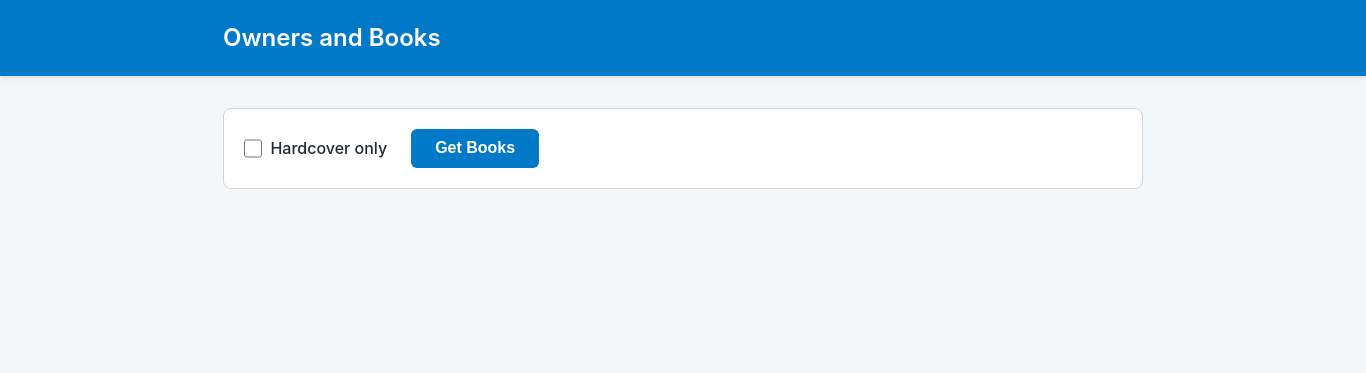
Scenario: App › requests and displays only hardcover books when the filter is toggled
Click the button "Get Books". click: coordinates (475, 148)
box: left=411, top=129, right=539, bottom=168
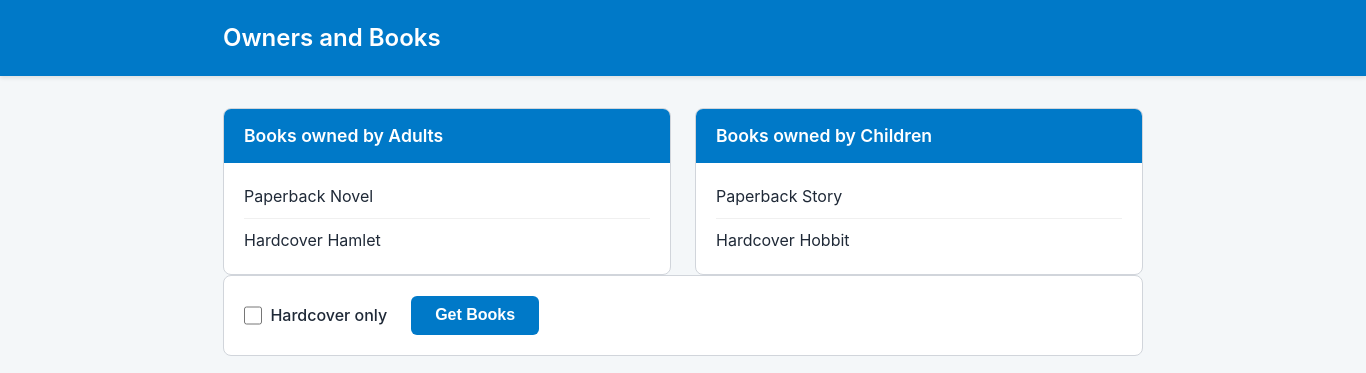
Result: the list item "Paperback Novel" is shown at left=244, top=175, right=650, bottom=219
Result: the list item "Paperback Story" is shown at left=716, top=175, right=1122, bottom=219
Click the checkbox labelled "Hardcover only". click: coordinates (253, 315)
box: left=244, top=306, right=262, bottom=324
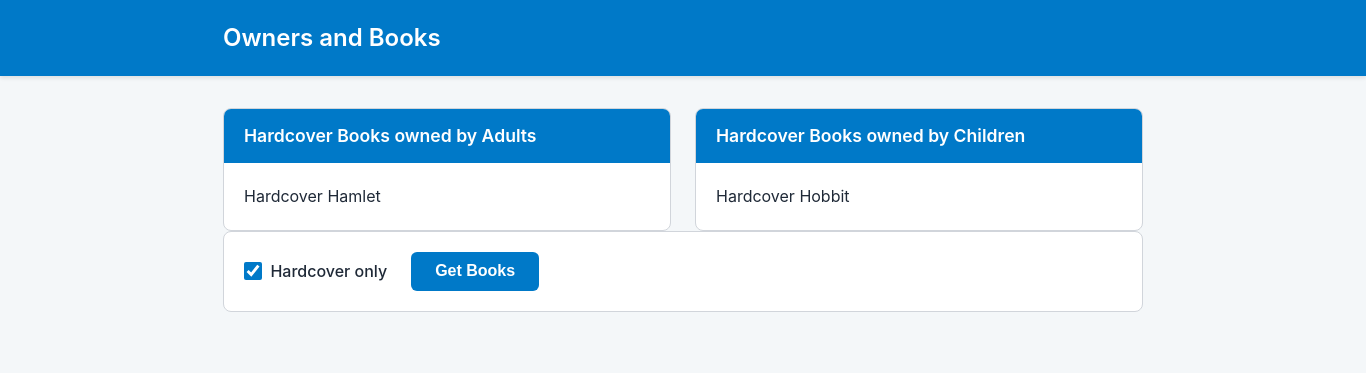
Result: the list item "Hardcover Hamlet" is shown at left=244, top=186, right=381, bottom=206
Result: the heading "Hardcover Books owned by Adults" is shown at left=224, top=109, right=670, bottom=163
Result: the heading "Hardcover Books owned by Children" is shown at left=696, top=109, right=1142, bottom=163
